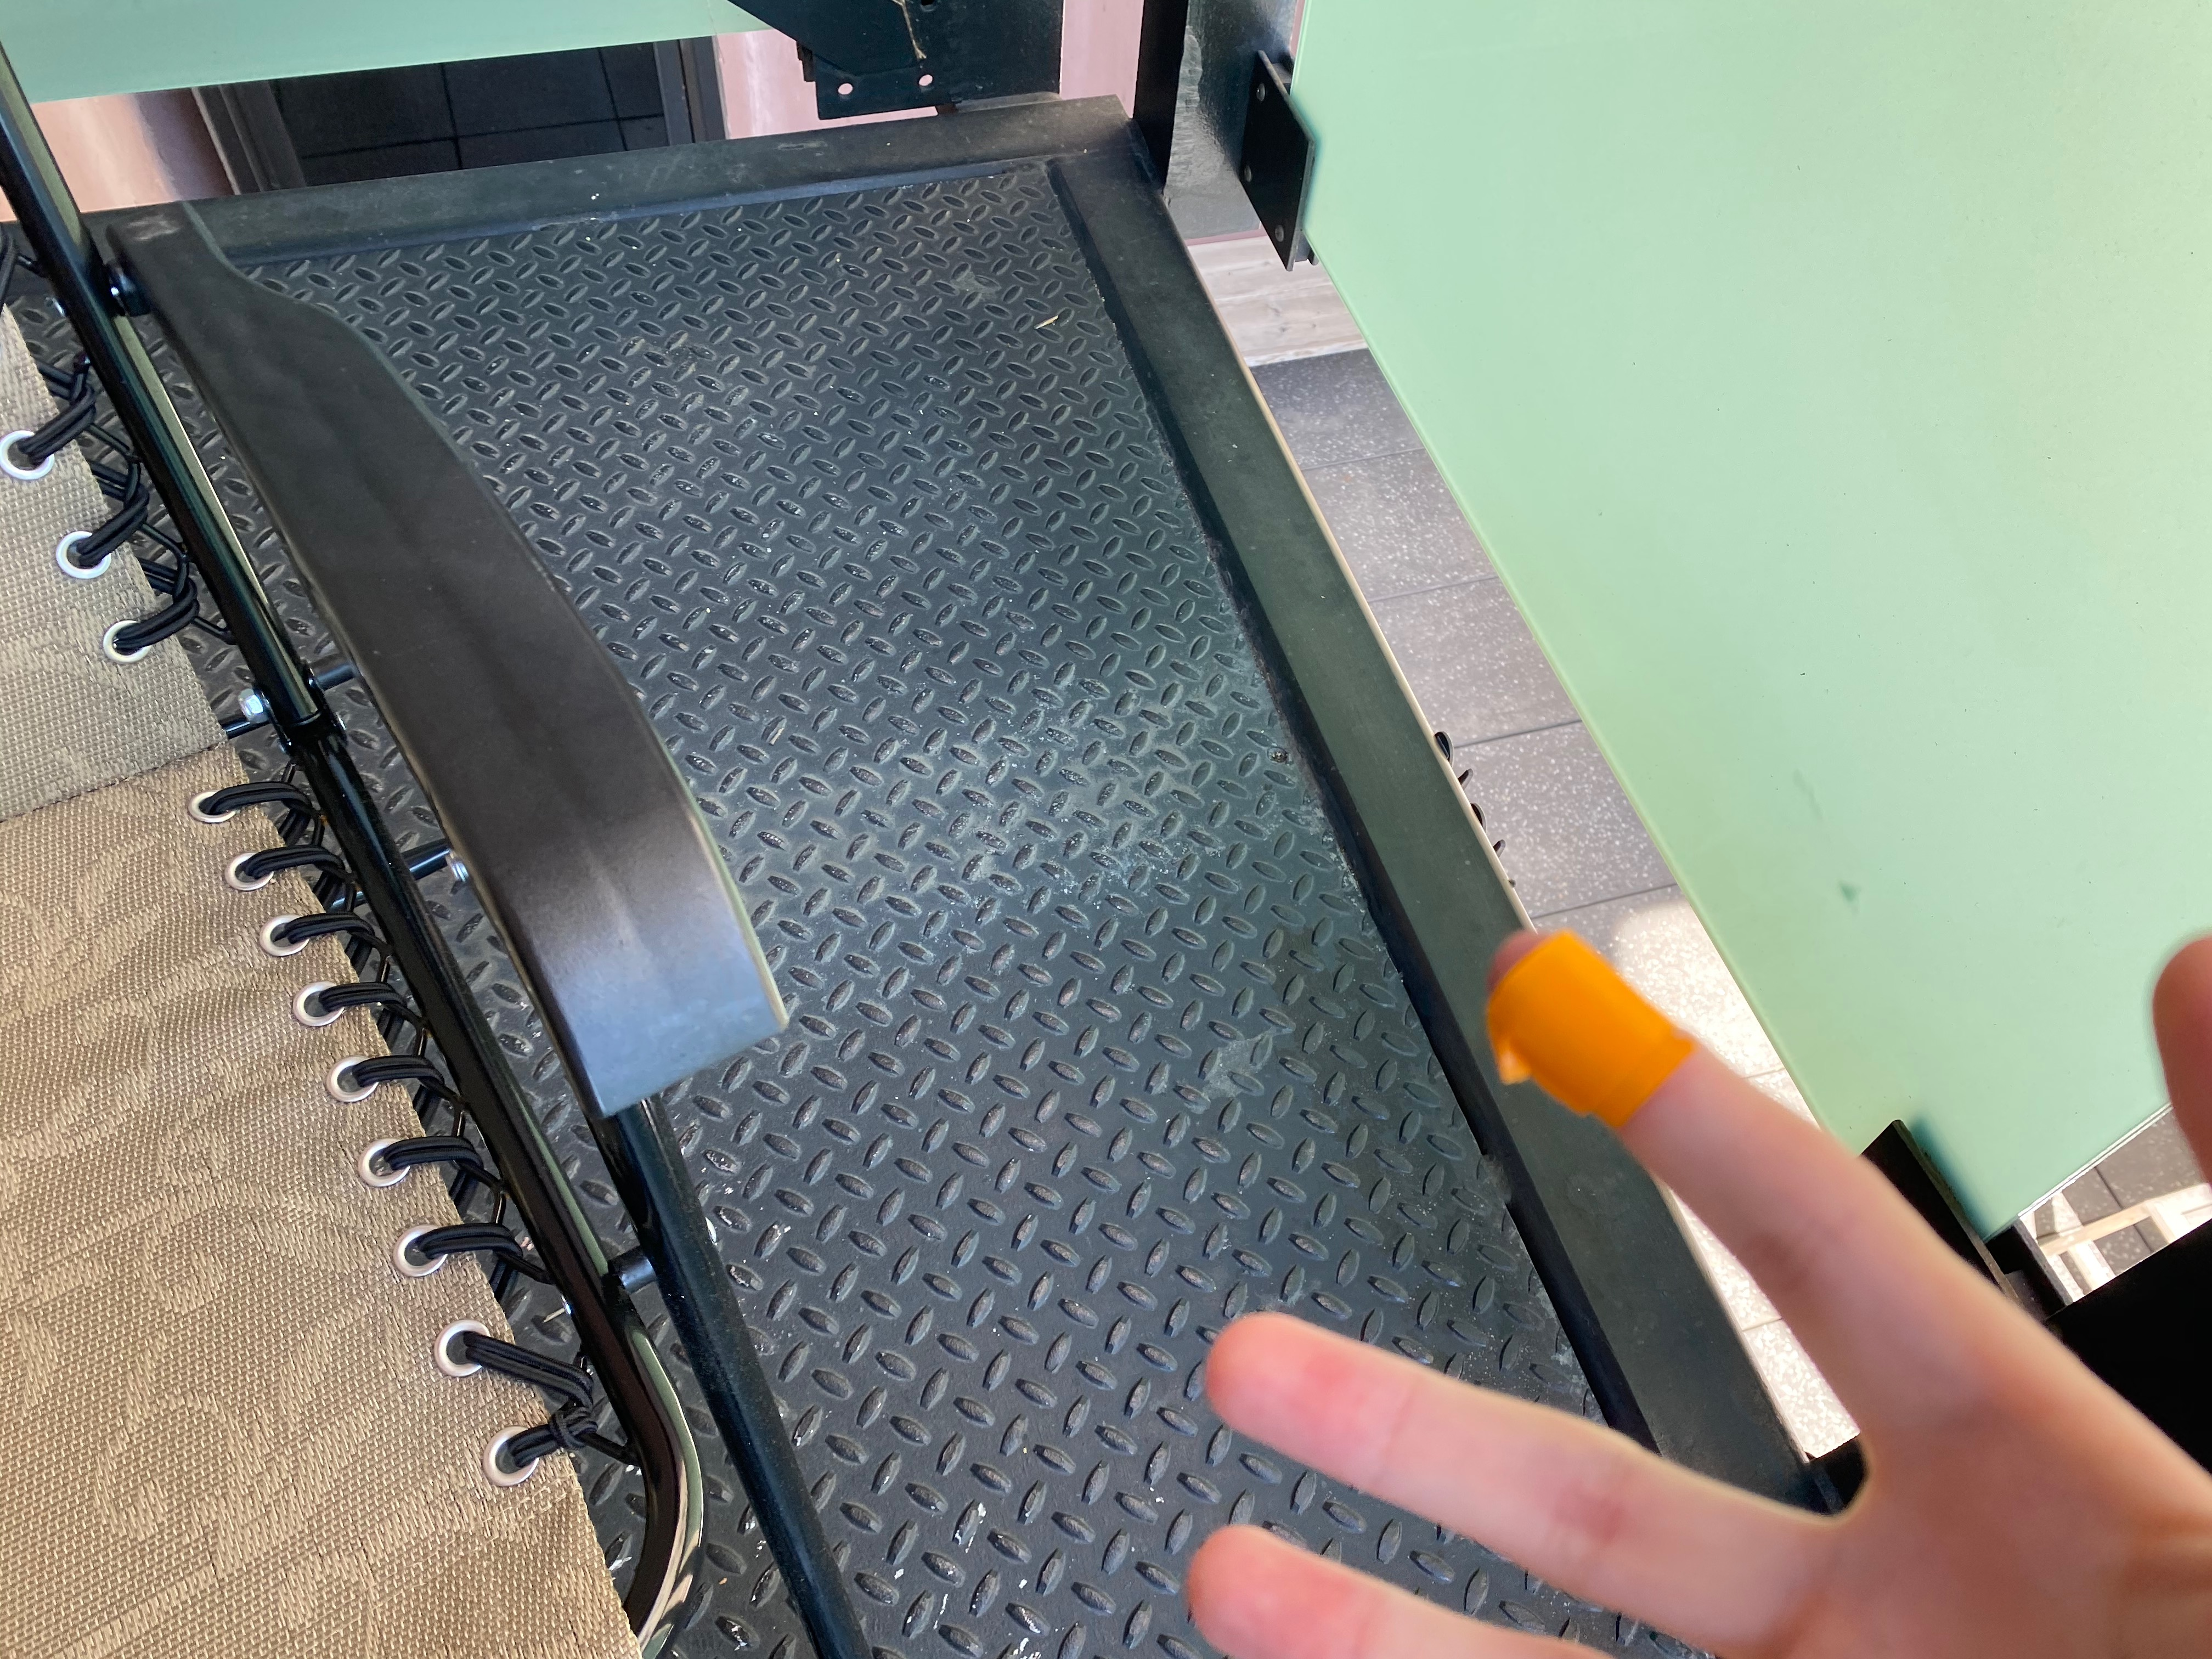fingertip: (1425, 915, 1771, 1157)
